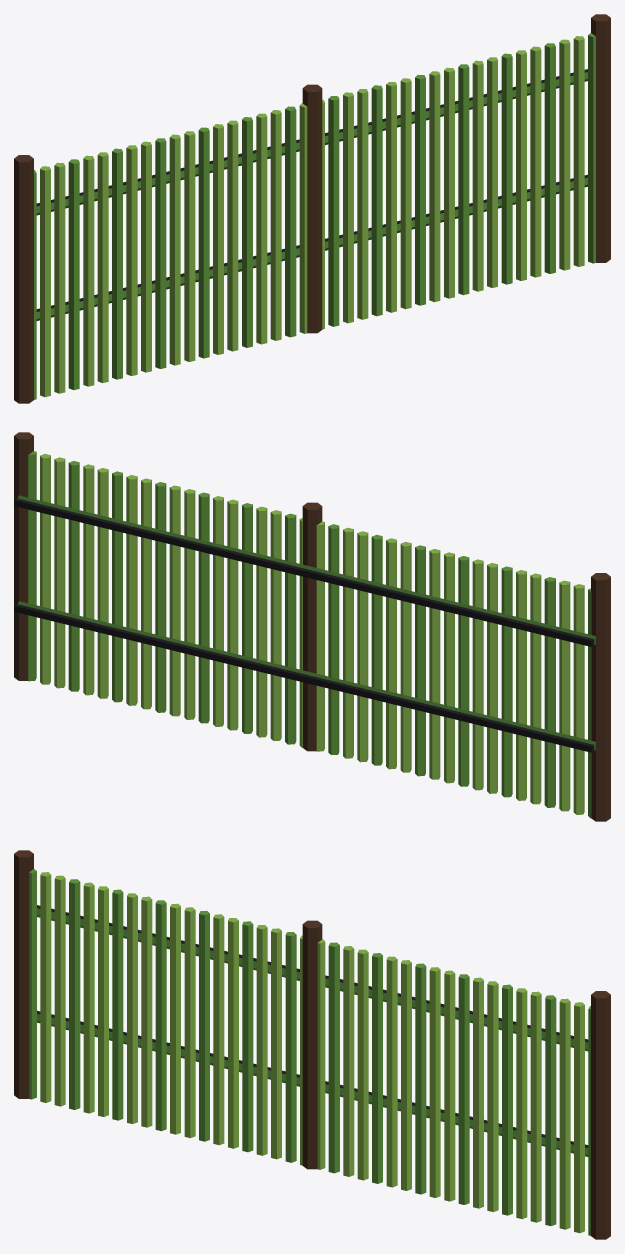
The model's file is takegaki.glb.
3 renders of one model, top to bottom at view 1: azimuth 30°, elevation 25°; view 2: azimuth 150°, elevation 25°; view 3: azimuth 330°, elevation 25°, orthographic.
Parts seen in each view (by area): view 1: takegaki; view 2: takegaki; view 3: takegaki.
Boxes of the visible parts, bbox=[...] form: takegaki: bbox=[14, 14, 610, 403]; takegaki: bbox=[14, 432, 610, 821]; takegaki: bbox=[14, 850, 610, 1239].
Bounding box in the file's own units: 4.1 × 1.6 × 0.175.
